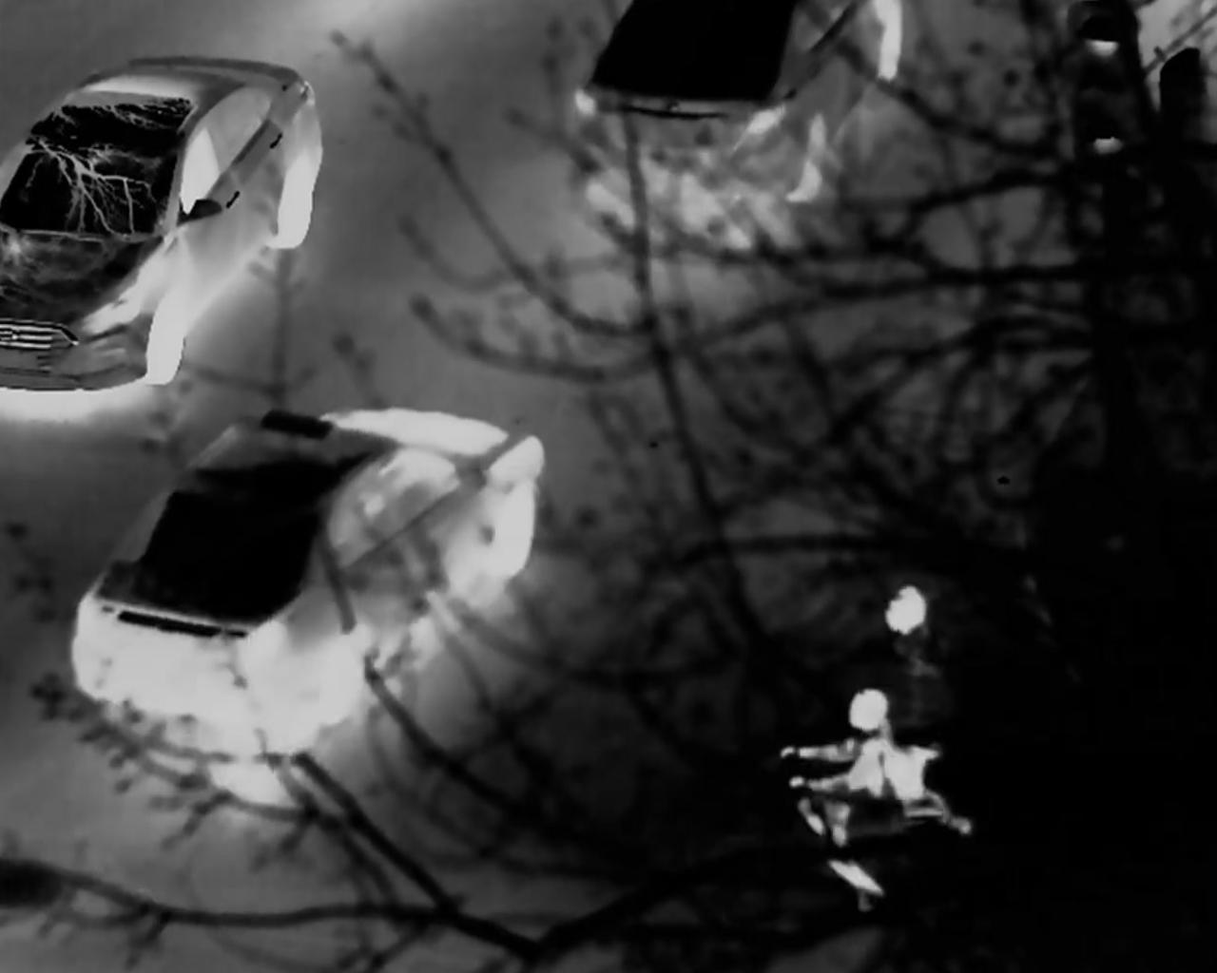person: (848, 588, 971, 829), (775, 687, 904, 912)
